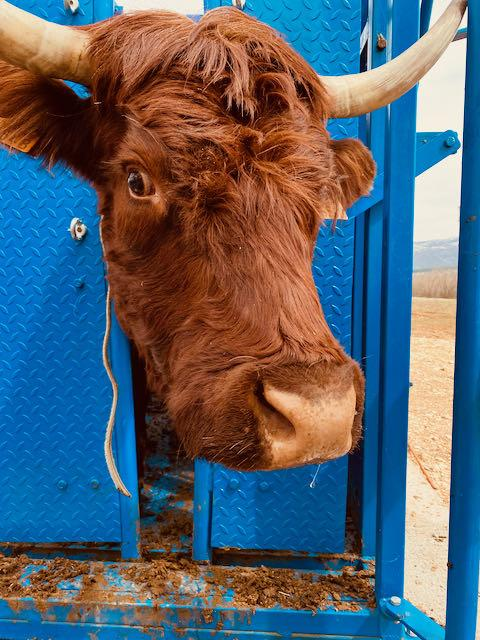muzzles: (227, 369, 380, 468)
